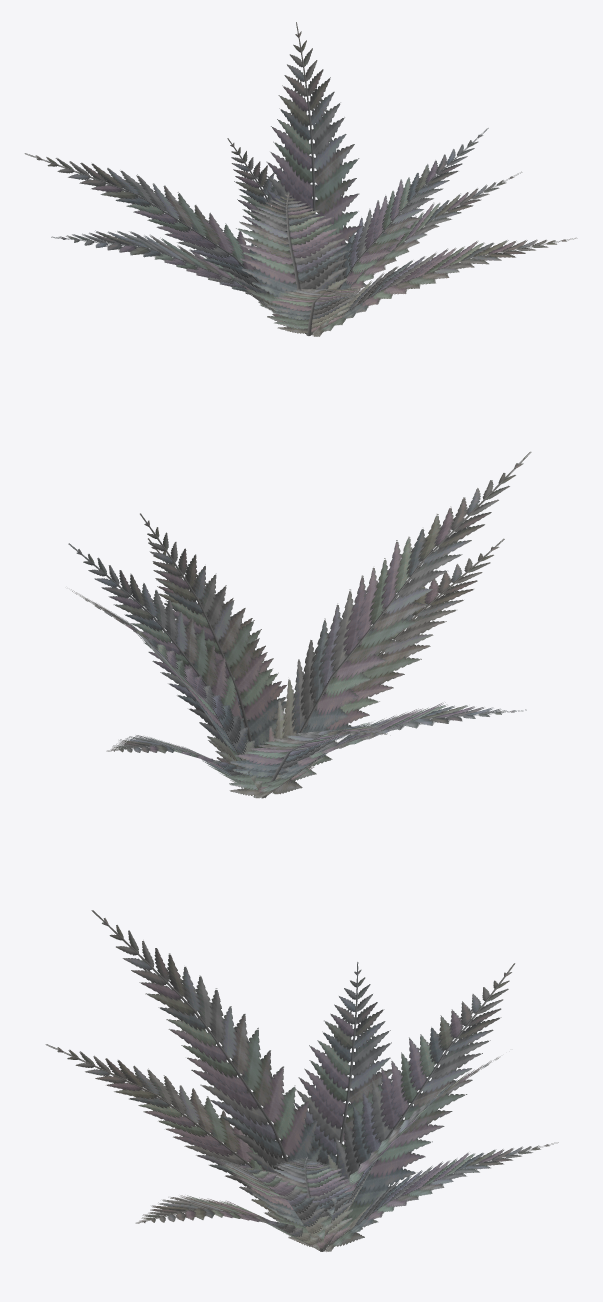
The model's file is fern_a_l0.gltf.
The picture shows the model from 3 angles, top to bottom: view 1: azimuth 30°, elevation 25°; view 2: azimuth 150°, elevation 25°; view 3: azimuth 270°, elevation 25°; orthographic projection. The views are drawn at different scales.
Parts seen in each view (by area): view 1: fern_a_l0; view 2: fern_a_l0; view 3: fern_a_l0.
Boxes of the visible parts, left/top/right/bottom form: fern_a_l0: left=24, top=22, right=577, bottom=336; fern_a_l0: left=68, top=451, right=531, bottom=798; fern_a_l0: left=45, top=910, right=558, bottom=1251.
Size of the model in its own units: 2.11 by 1.09 by 2.
1 material, 1 textured.
